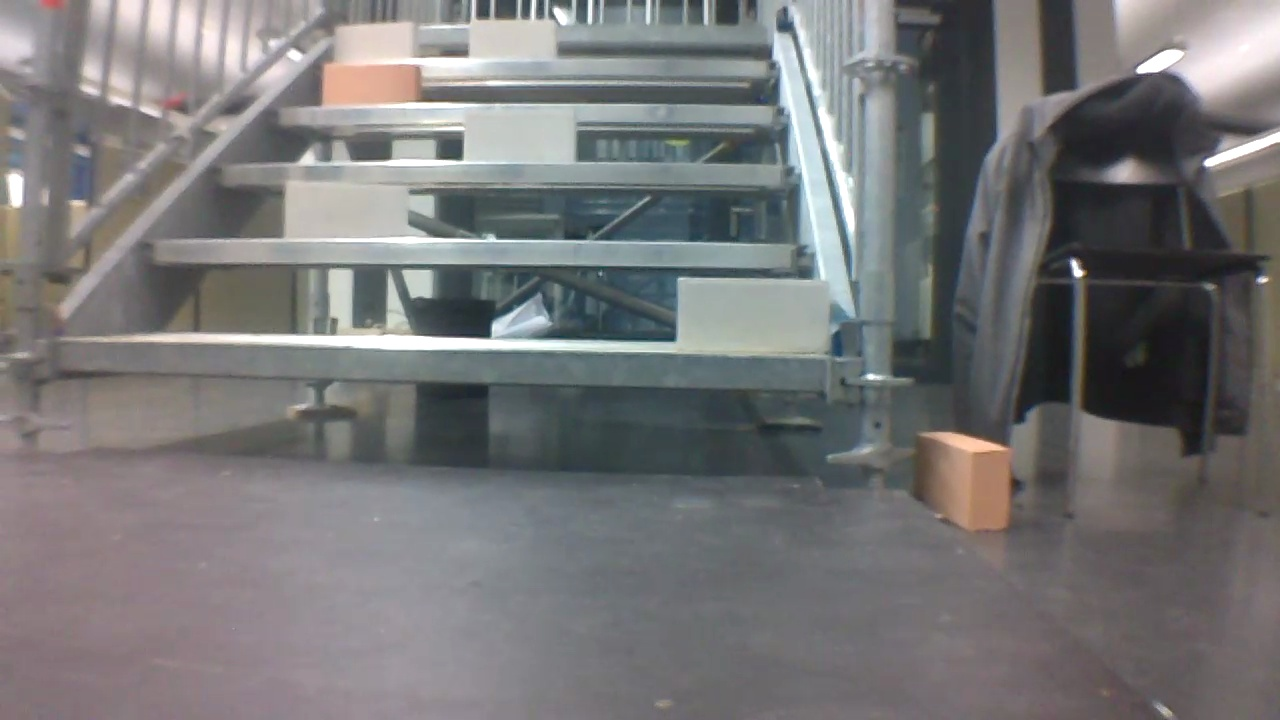brick: (678, 278, 830, 351), (284, 183, 406, 238), (464, 109, 575, 161), (322, 64, 421, 103), (471, 19, 556, 58), (335, 23, 419, 56)
edge: (58, 342, 826, 388), (148, 239, 817, 269), (216, 164, 797, 185), (266, 105, 786, 125), (345, 24, 769, 44), (314, 59, 777, 77)
stairs: (25, 3, 902, 484)
steps: (54, 18, 833, 397)
